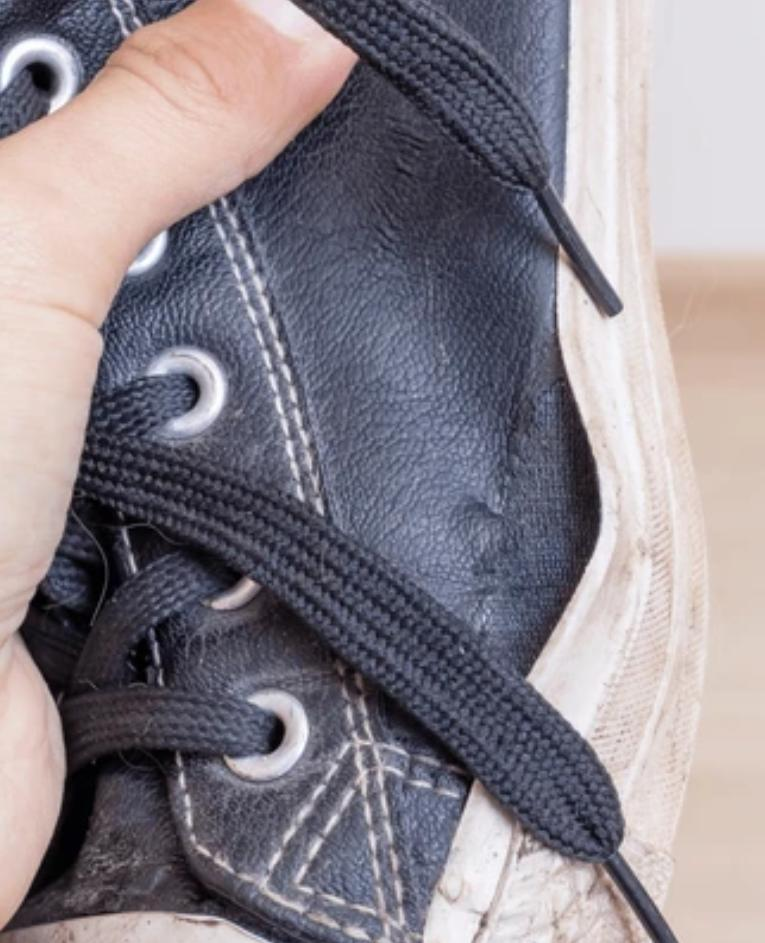bonding: (497, 342, 630, 721)
